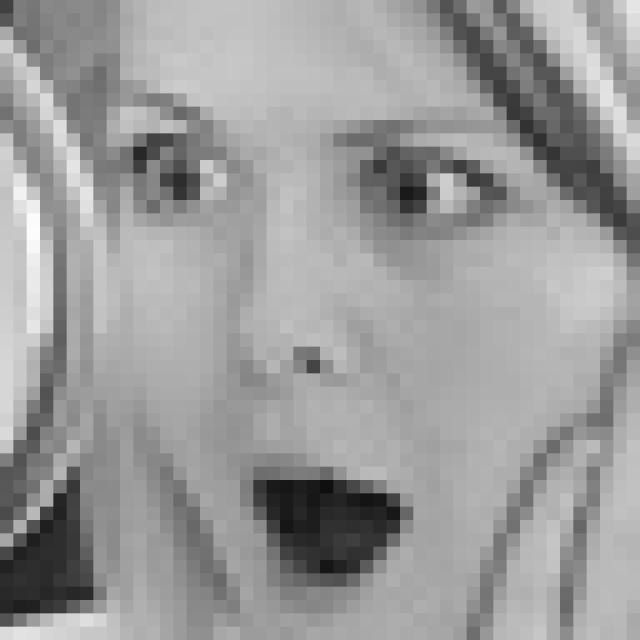surprise: (122, 68, 546, 603)
